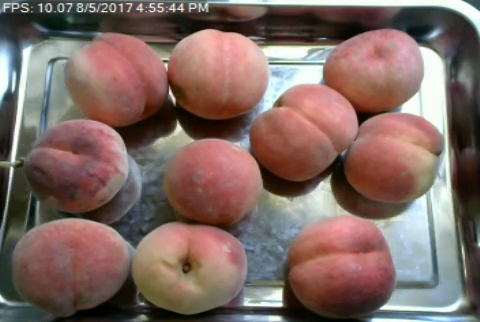Peach: (10, 216, 128, 316), (284, 214, 397, 318), (249, 83, 357, 182), (135, 222, 246, 316), (22, 117, 128, 213), (66, 32, 168, 127), (168, 26, 269, 120), (321, 25, 425, 114), (345, 111, 445, 202), (164, 137, 263, 225)
